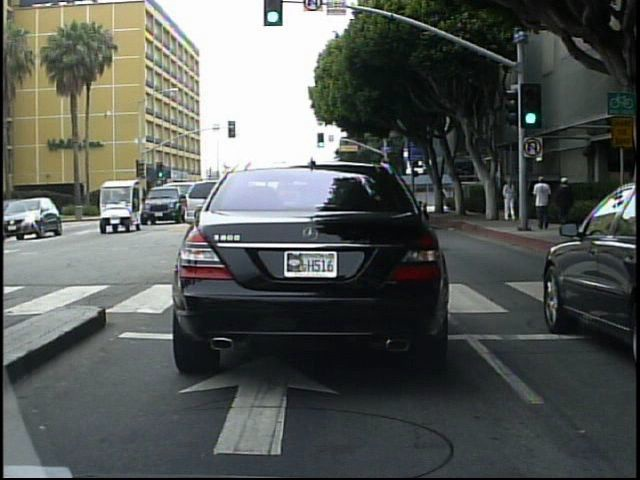person: (556, 171, 581, 239), (532, 174, 553, 232), (502, 177, 519, 225), (437, 182, 451, 216)
